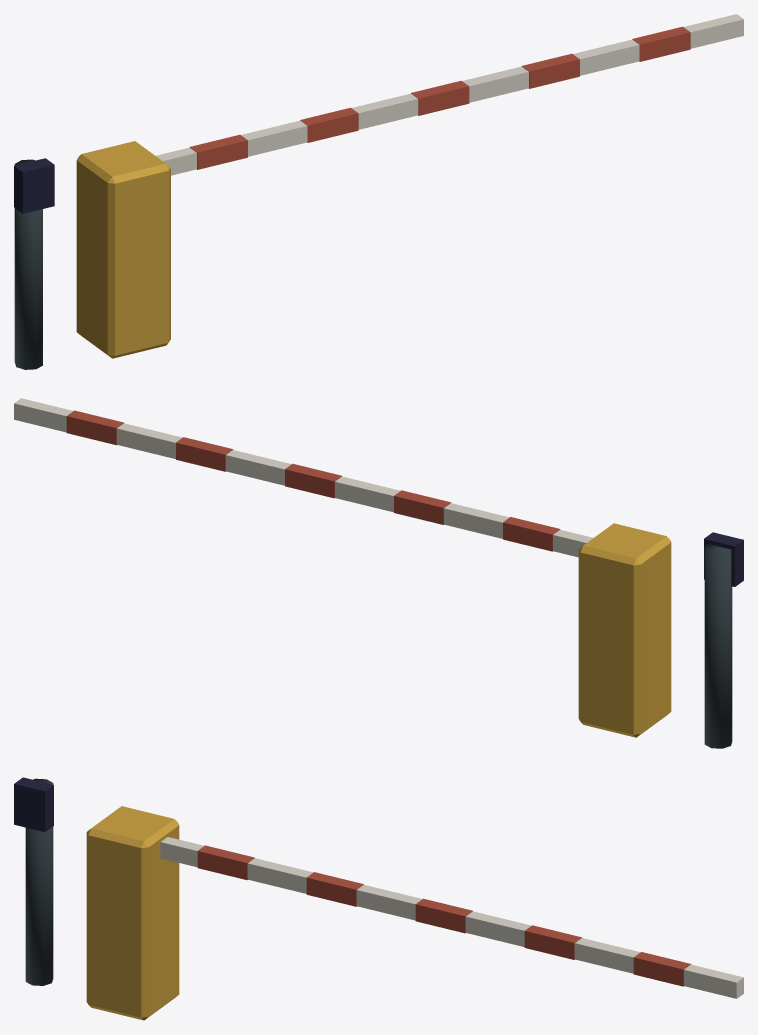
Rendered from barrier.glb.
3 views of the same model, one above another, from view 1: azimuth 30°, elevation 25°; view 2: azimuth 150°, elevation 25°; view 3: azimuth 330°, elevation 25° (orthographic).
Parts seen in each view (by area): view 1: barrier; view 2: barrier; view 3: barrier.
Part boxes in pixels (bbox=[...]): barrier: bbox=[14, 14, 743, 369]; barrier: bbox=[14, 398, 743, 748]; barrier: bbox=[14, 777, 743, 1020].
Bounding box in the file's own units: 4.6 × 1.22 × 0.3998.
